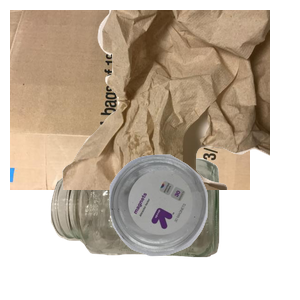cardboard: (10, 10, 250, 190)
glass: (48, 156, 260, 300)
plastic: (107, 152, 300, 300)
trash: (60, 10, 300, 190)
